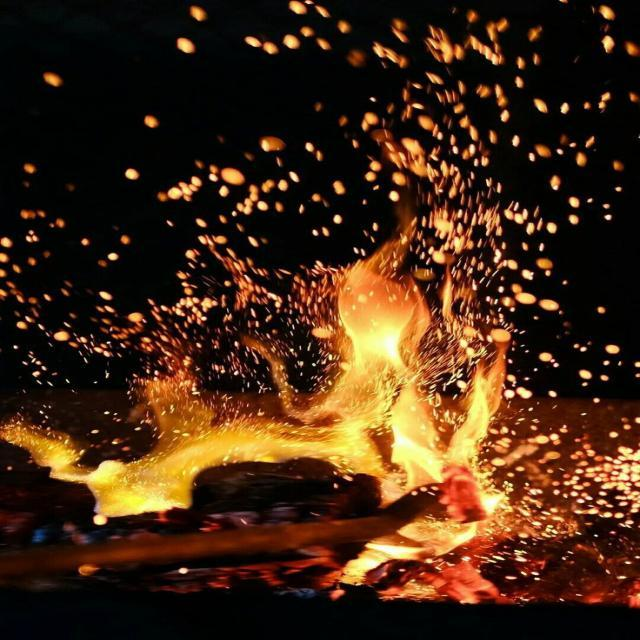Fire: (64, 51, 538, 512), (342, 510, 626, 623)
